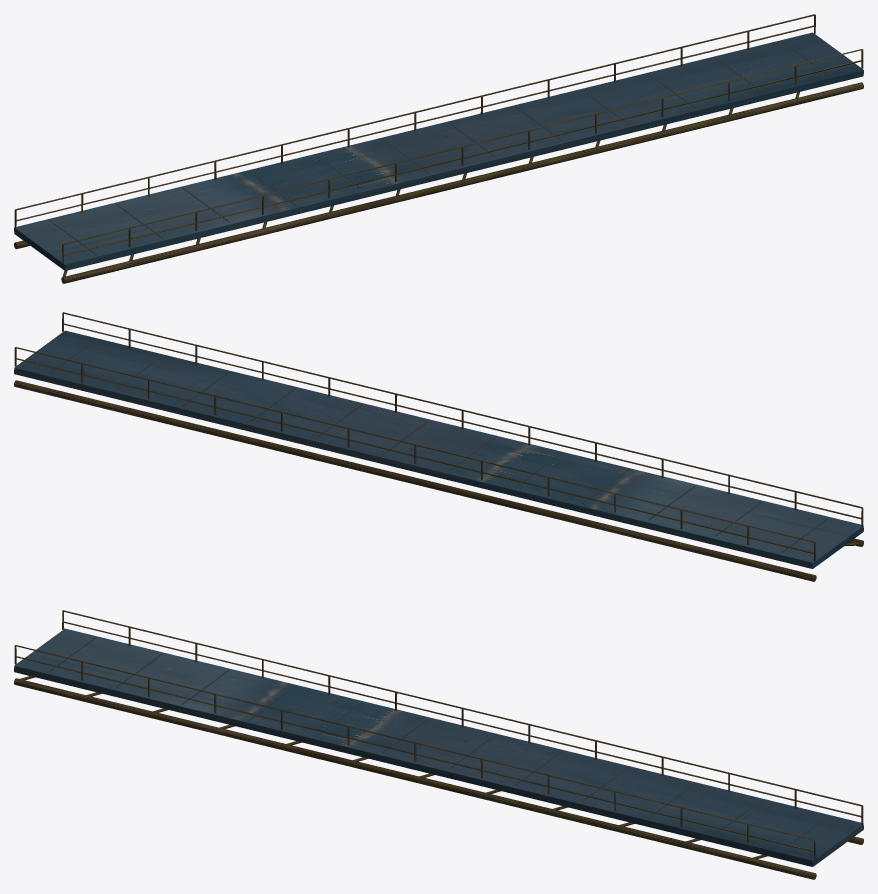
File: ServiceBridge_LOD1.fbx
3 views of the same model, one above another, from view 1: azimuth 30°, elevation 25°; view 2: azimuth 150°, elevation 25°; view 3: azimuth 330°, elevation 25° (orthographic).
Visible parts, largest first — view 1: ServiceBridge.002; view 2: ServiceBridge.002; view 3: ServiceBridge.002.
Boxes of the visible parts, box(x1,y1,x2,y2) form: ServiceBridge.002: box(14, 14, 863, 283); ServiceBridge.002: box(14, 312, 863, 581); ServiceBridge.002: box(14, 610, 863, 879).
Bounding box in the file's own units: 72.18 × 7.98 × 3.44.
